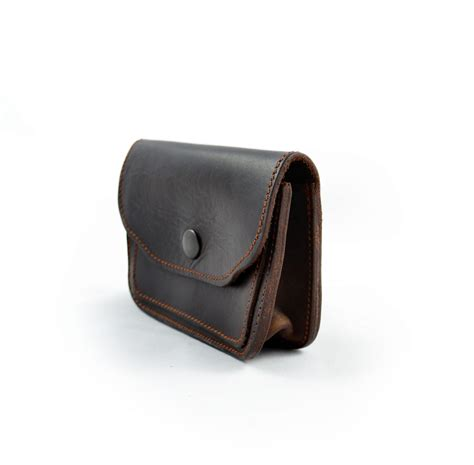cuero: (118, 138, 323, 364)
